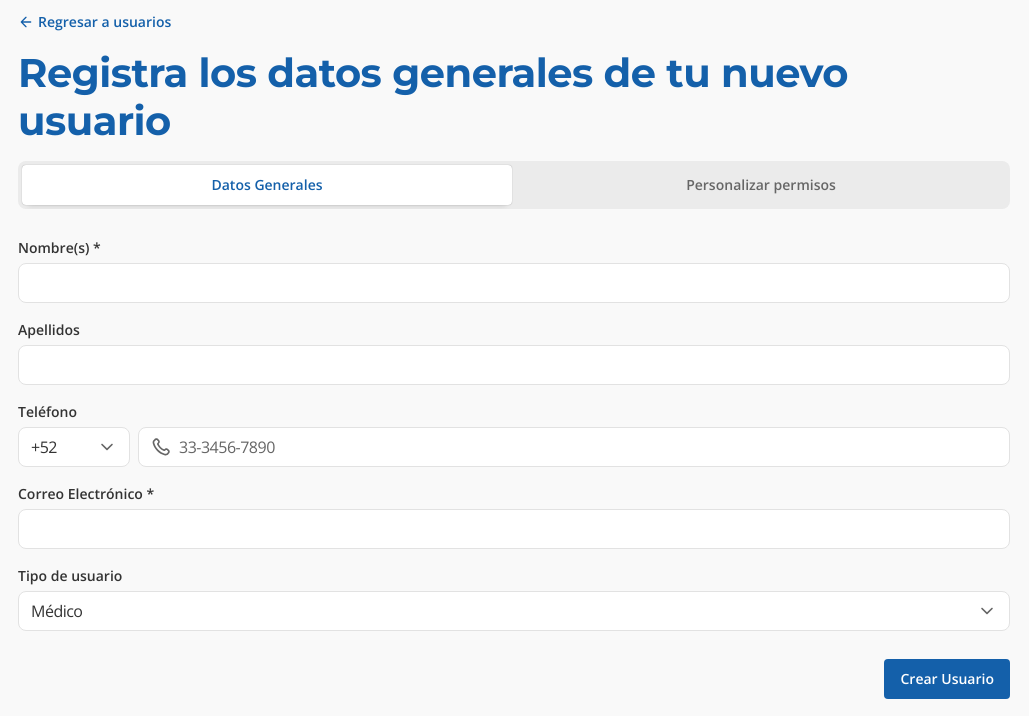
Scenario: NewUserPage › invites with the chosen role and codes, then shows the link to share
Type "Sebastián" into the field labelled "Nombre(s) *". click: (514, 283)
box: left=31, top=264, right=997, bottom=302
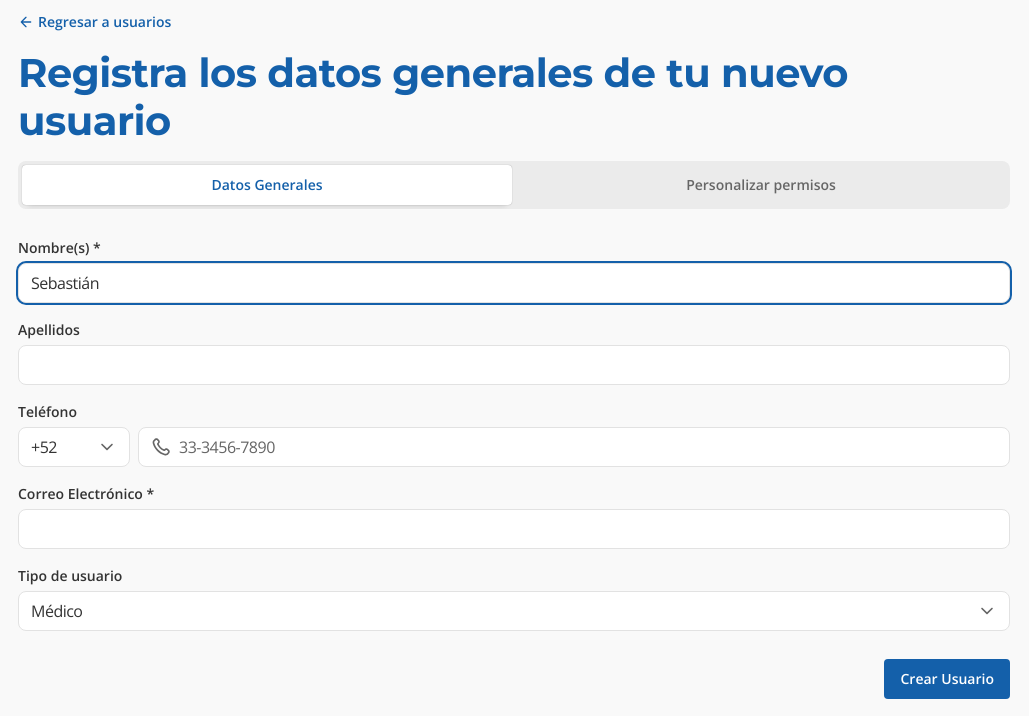
Type "nutri@example.com" into the field labelled "Correo Electrónico *". click: (514, 529)
box: left=31, top=510, right=997, bottom=548
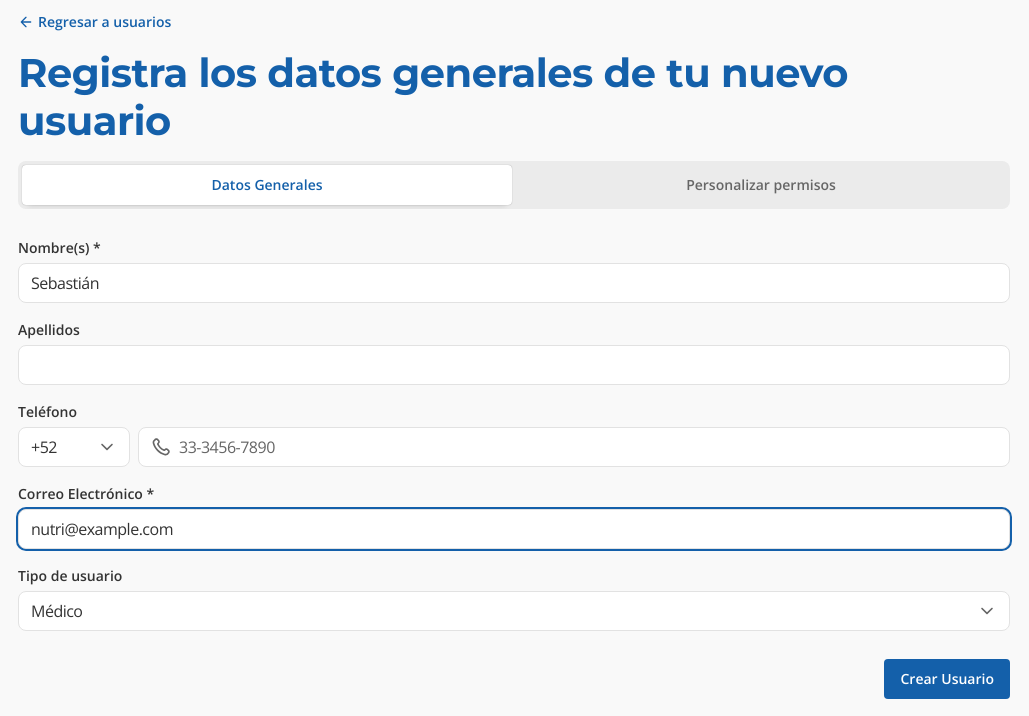
Click the dropdown named "Tipo de usuario". click: (57, 611)
box: left=18, top=591, right=1010, bottom=631
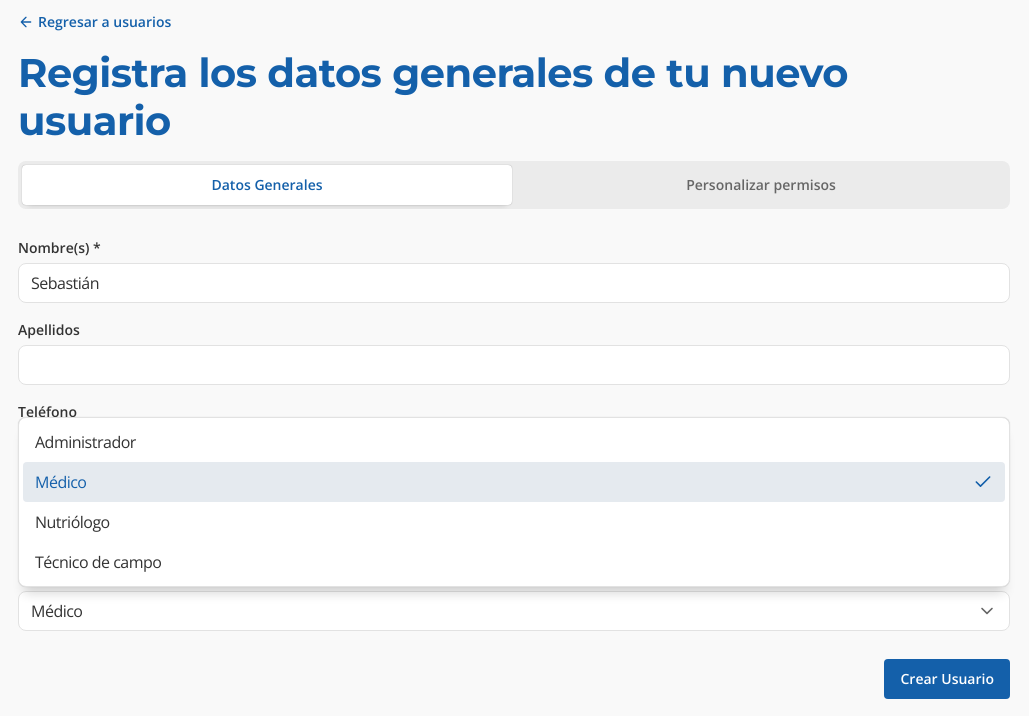
Click the option "Nutriólogo". click: (72, 522)
box: left=35, top=511, right=110, bottom=533
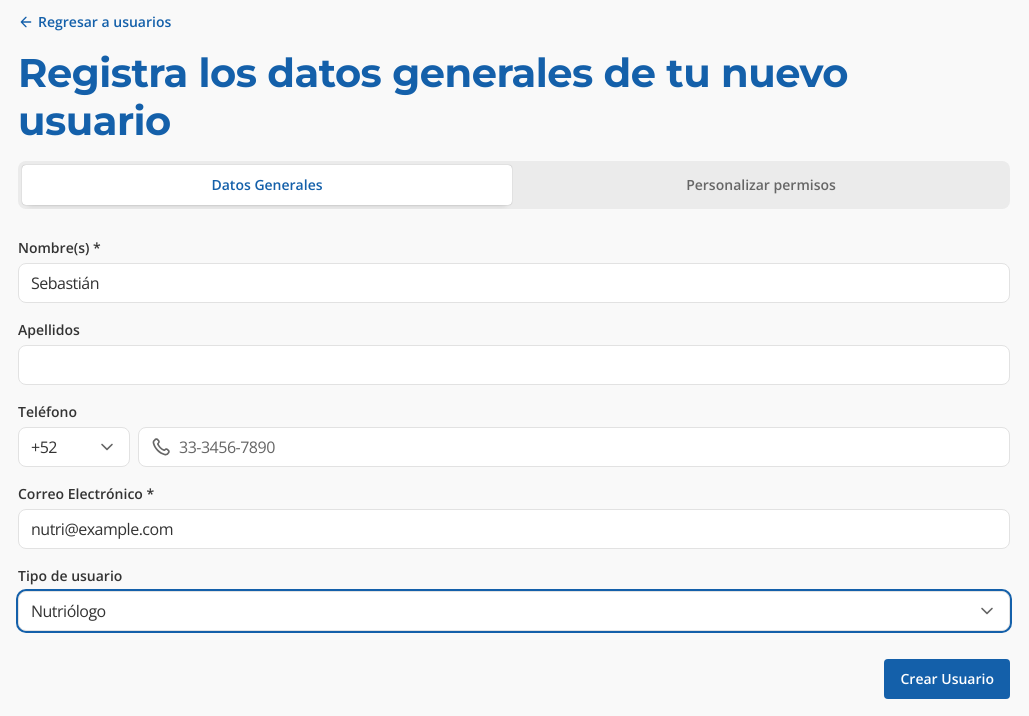
Click the button "Crear Usuario". click: (947, 679)
box: left=884, top=659, right=1010, bottom=699
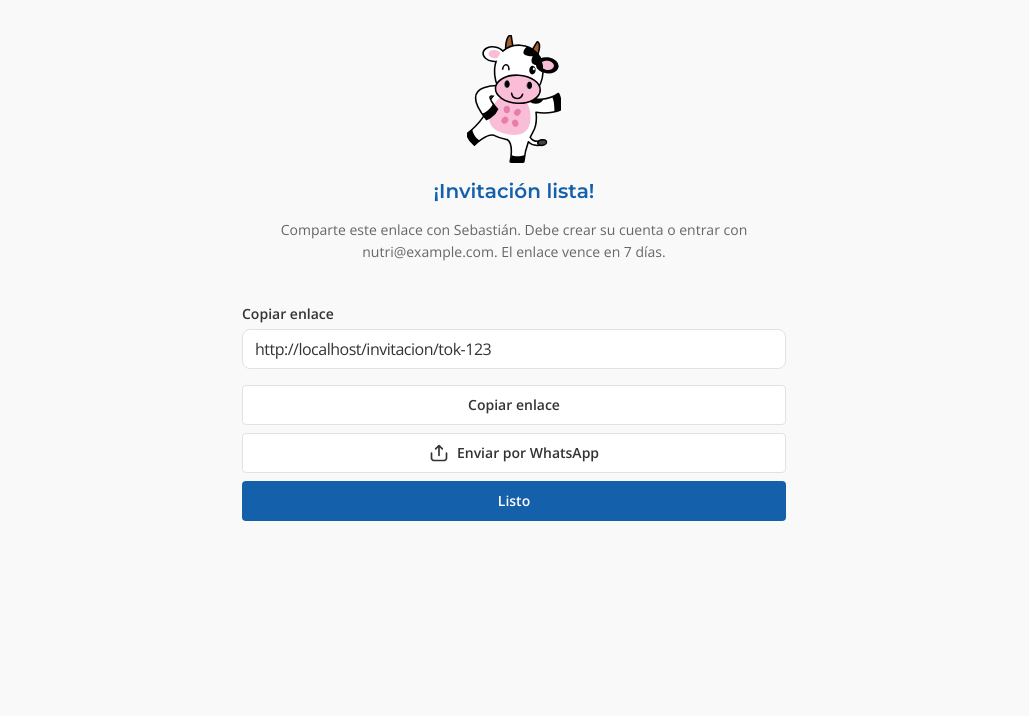
Expected: the text "¡Invitación lista!" is shown, left=434, top=175, right=594, bottom=207
Expected: the field showing "/invitacion/tok-123" is shown, left=255, top=330, right=773, bottom=368
